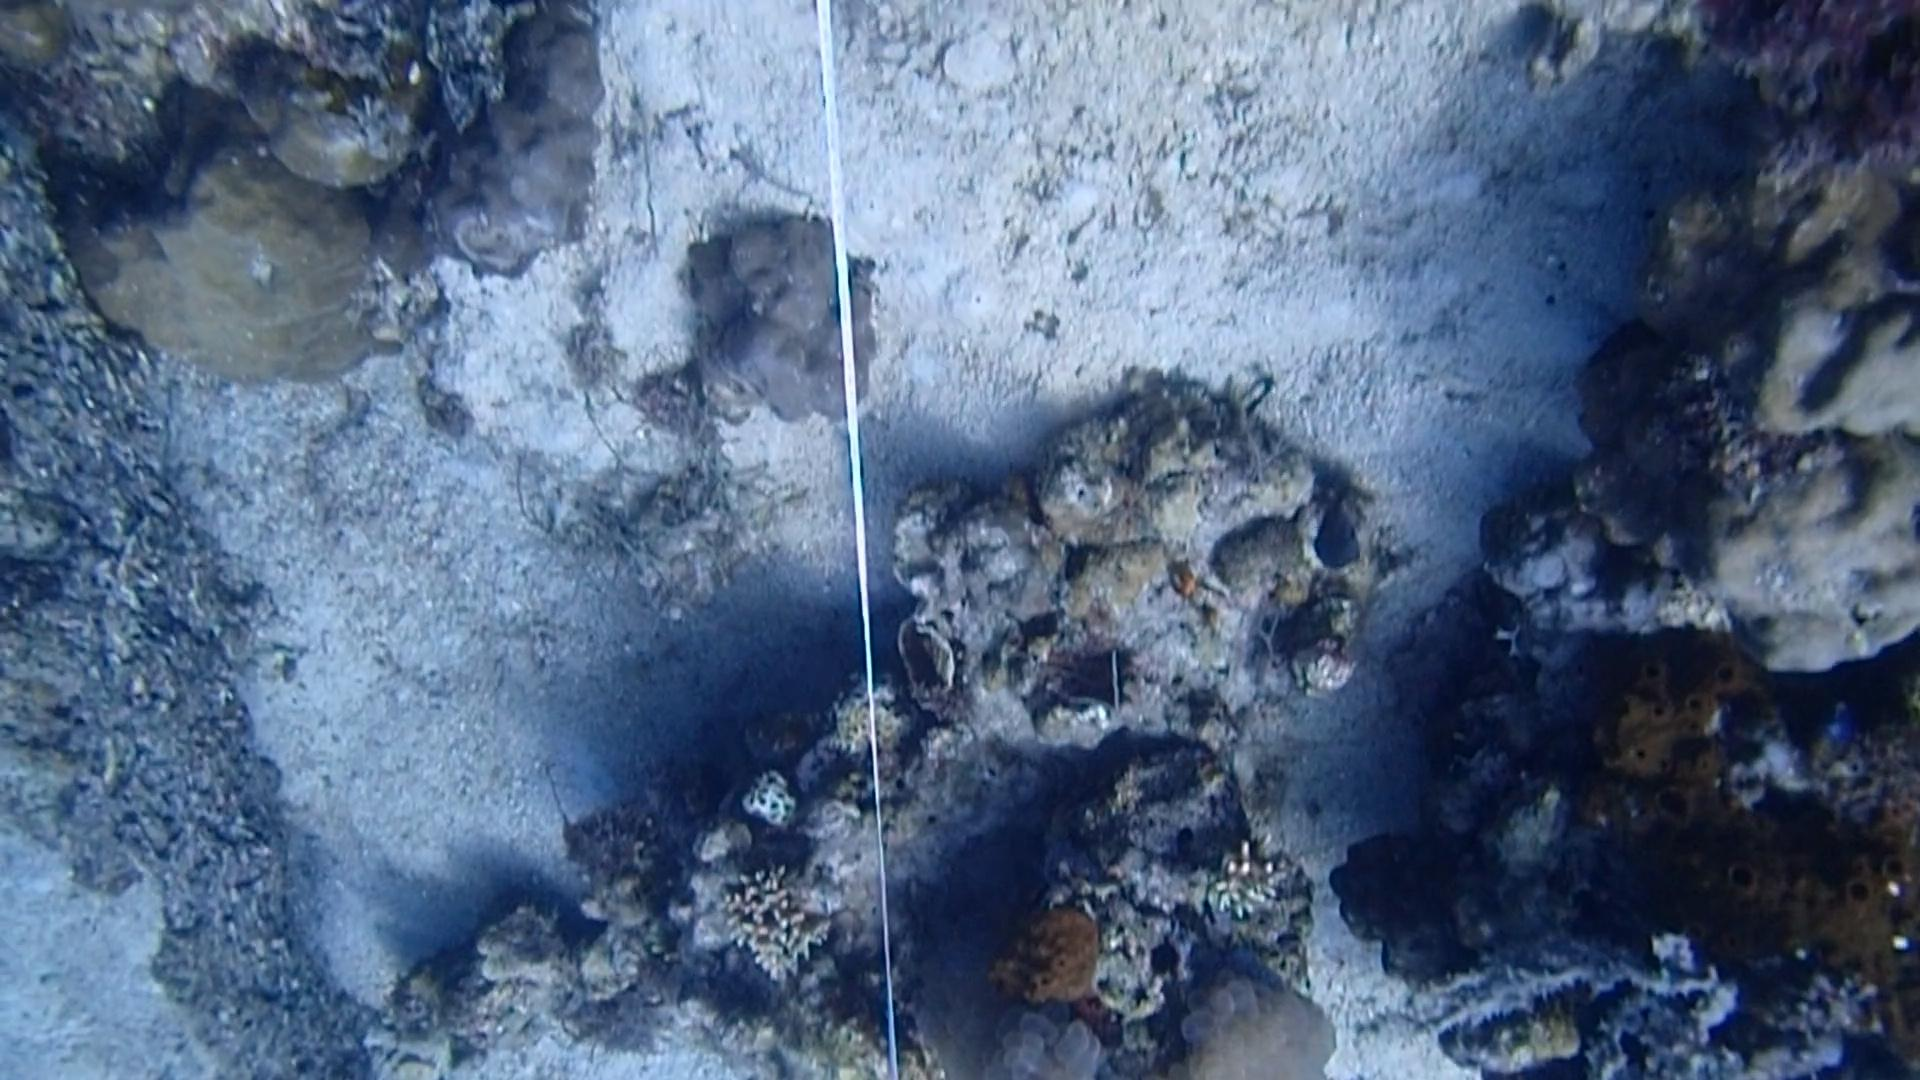Big Dark Blue Fish: (1283, 488, 1379, 583)
